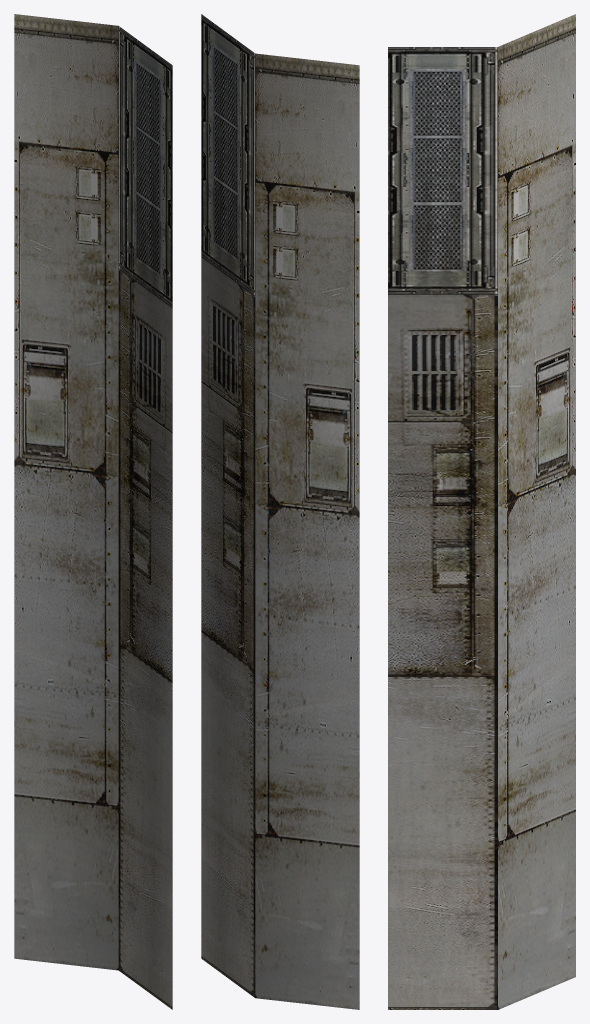
The model's file is Wall_J_Giant10mts_07.fbx.
The picture shows the model from 3 angles, left to right: view 1: azimuth 30°, elevation 25°; view 2: azimuth 210°, elevation 25°; view 3: azimuth 270°, elevation 25°; orthographic projection.
Parts seen in each view (by area): view 1: Wall_J_Giant10mts_07; view 2: Wall_J_Giant10mts_07; view 3: Wall_J_Giant10mts_07.
Part boxes in pixels (left/top/right/bottom): Wall_J_Giant10mts_07: left=14, top=14, right=172, bottom=1009; Wall_J_Giant10mts_07: left=201, top=14, right=359, bottom=1009; Wall_J_Giant10mts_07: left=388, top=14, right=575, bottom=1009.
Size of the model in its own units: 146 by 2000 by 354.
1 material, 1 textured.
